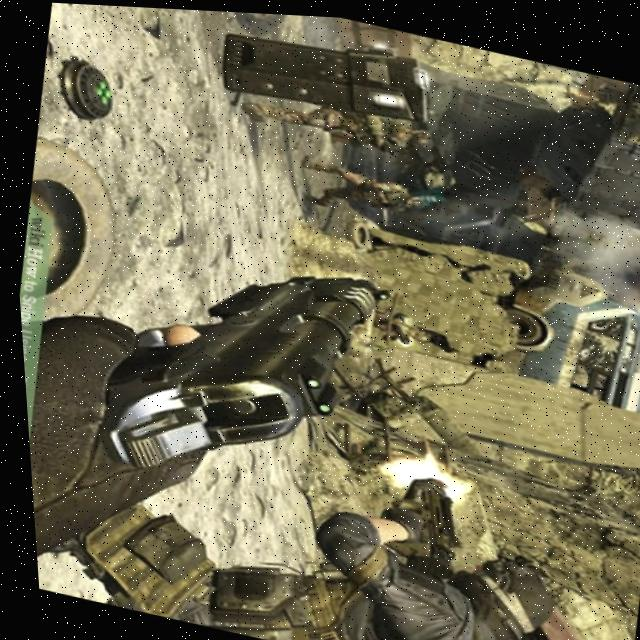firearm: (397, 473, 465, 567)
pistol: (83, 223, 403, 514)
